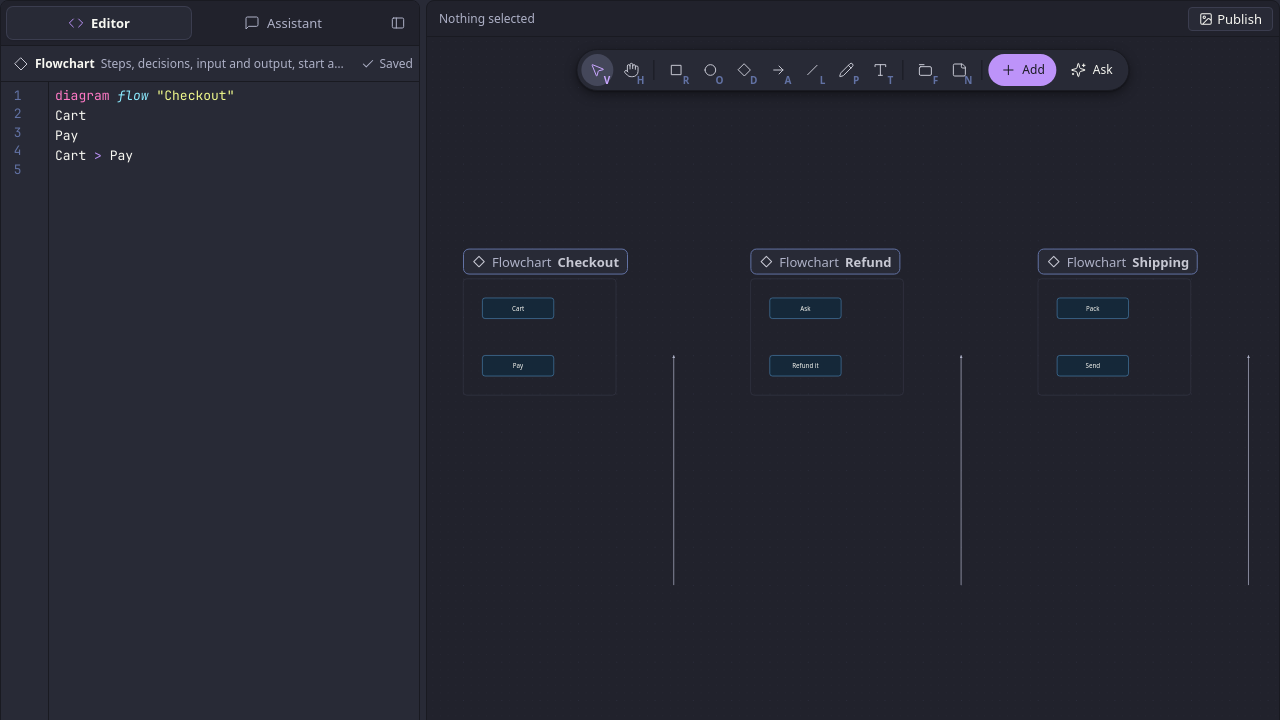
Scenario: selecting_a_shape_bands_its_line
The image size is (1280, 720).
Click the button "Flowchart Refund". click: point(826, 262)
box: 750,249 -> 901,275
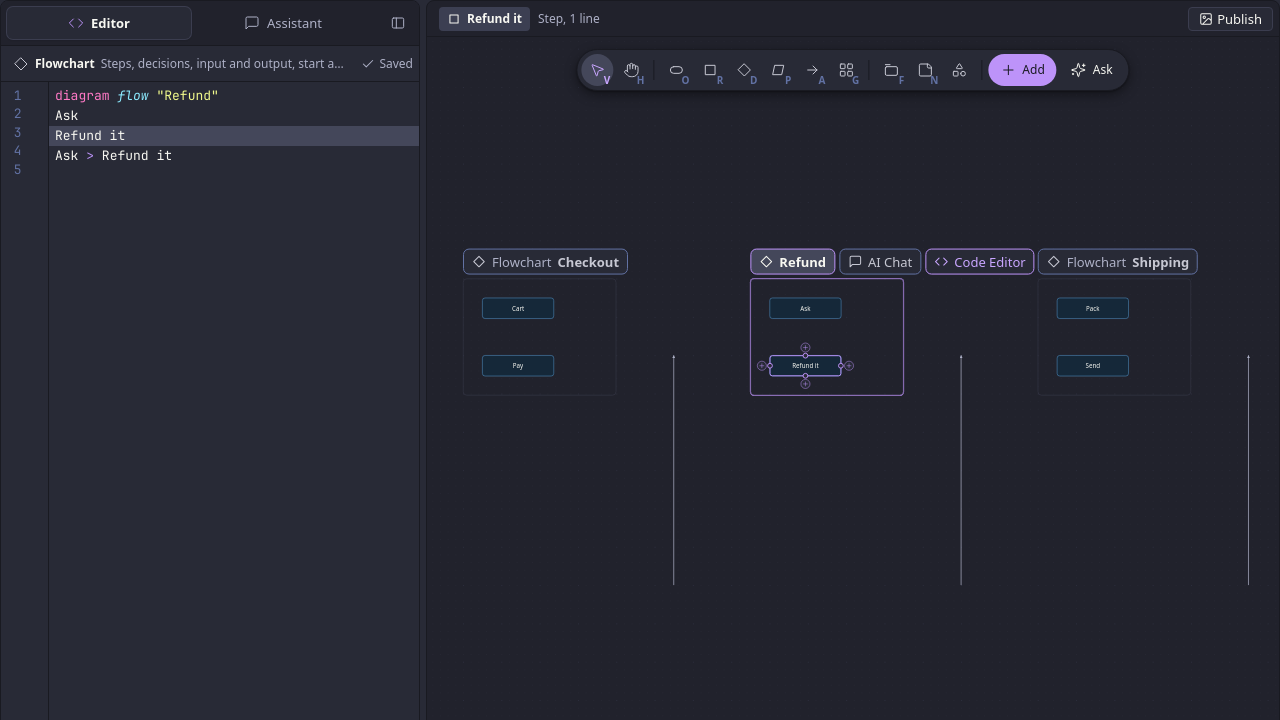
Result: the text box with class "cm-flow-band" reads "Refund it" at 55,127 -> 125,144
